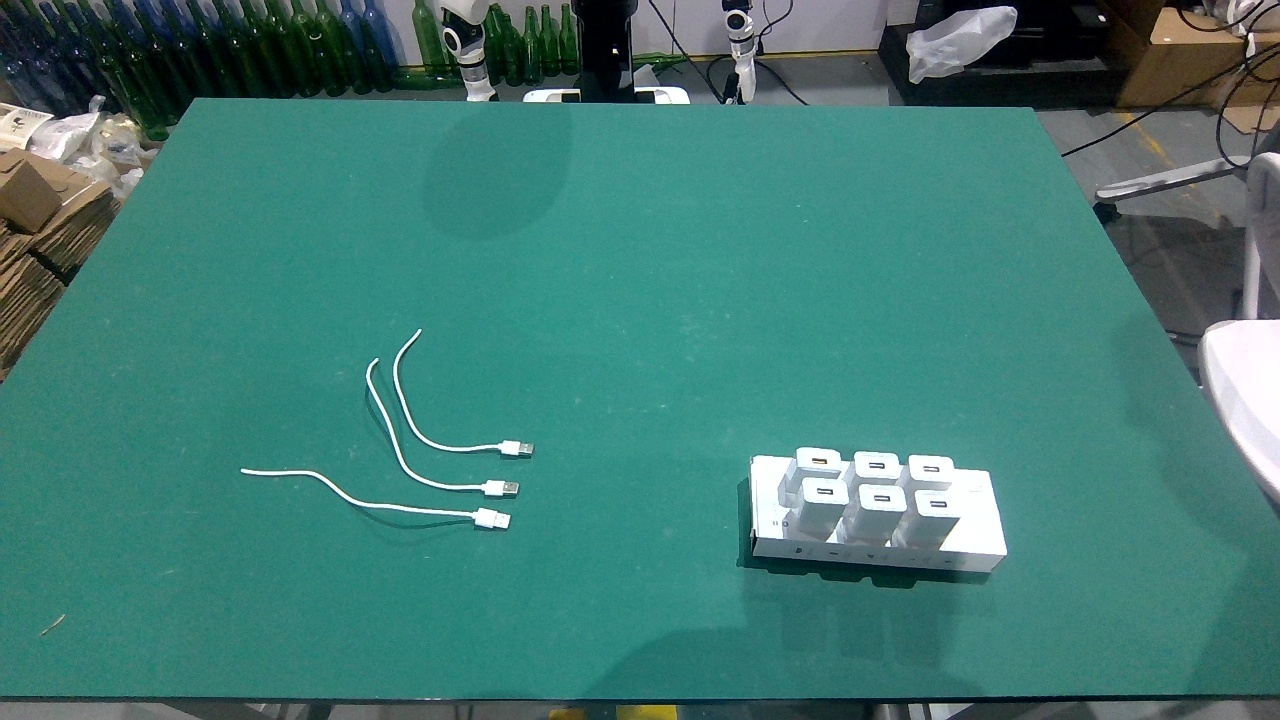usb_a_port: (869, 492, 894, 504), (816, 485, 836, 498), (929, 499, 950, 511), (922, 462, 941, 475), (865, 461, 889, 470), (810, 455, 828, 466)
